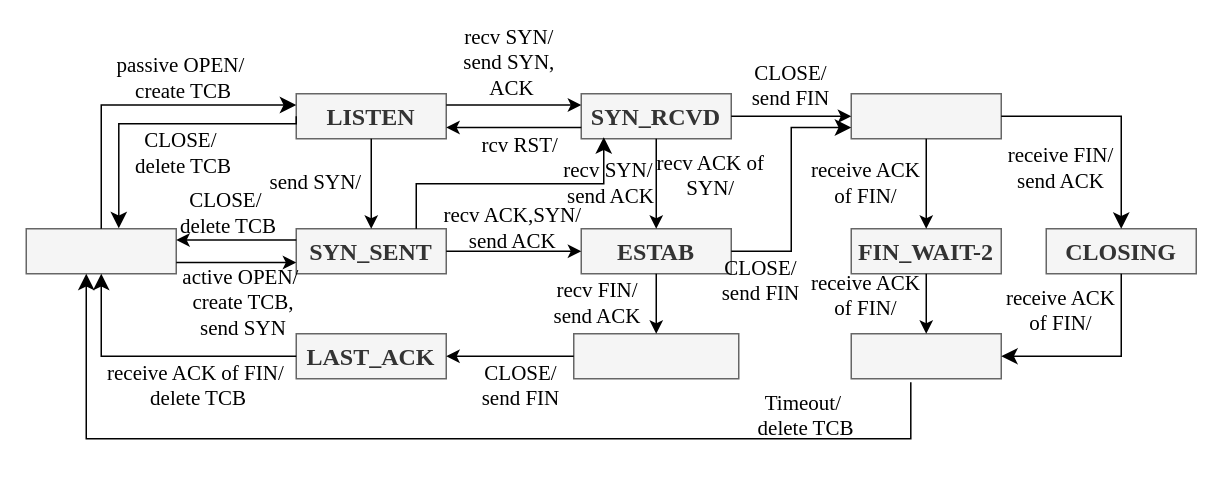
This 1223x480 diagram has some shape labels left out. Here are the shapes that lost their labels. From the top down, the centre of each, then its label:
pixel 925 115: FIN_WAIT-1
pixel 100 250: CLOSED
pixel 655 355: CLOSE_WAIT
pixel 925 355: TIME_WAIT
